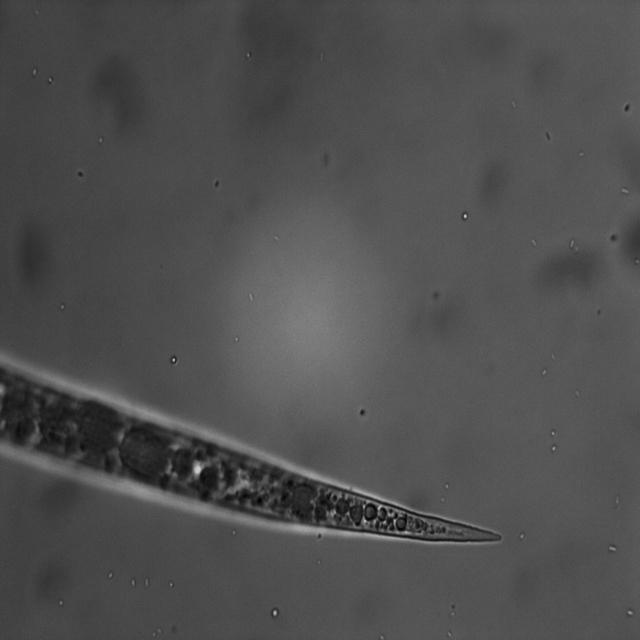Meloidogyne: (288, 464, 517, 568)
